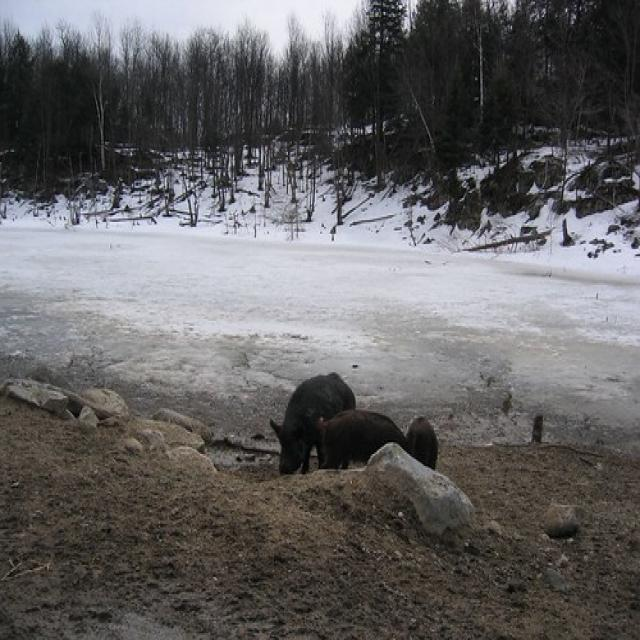boar: (263, 363, 371, 490), (306, 404, 405, 489), (403, 408, 443, 479)
